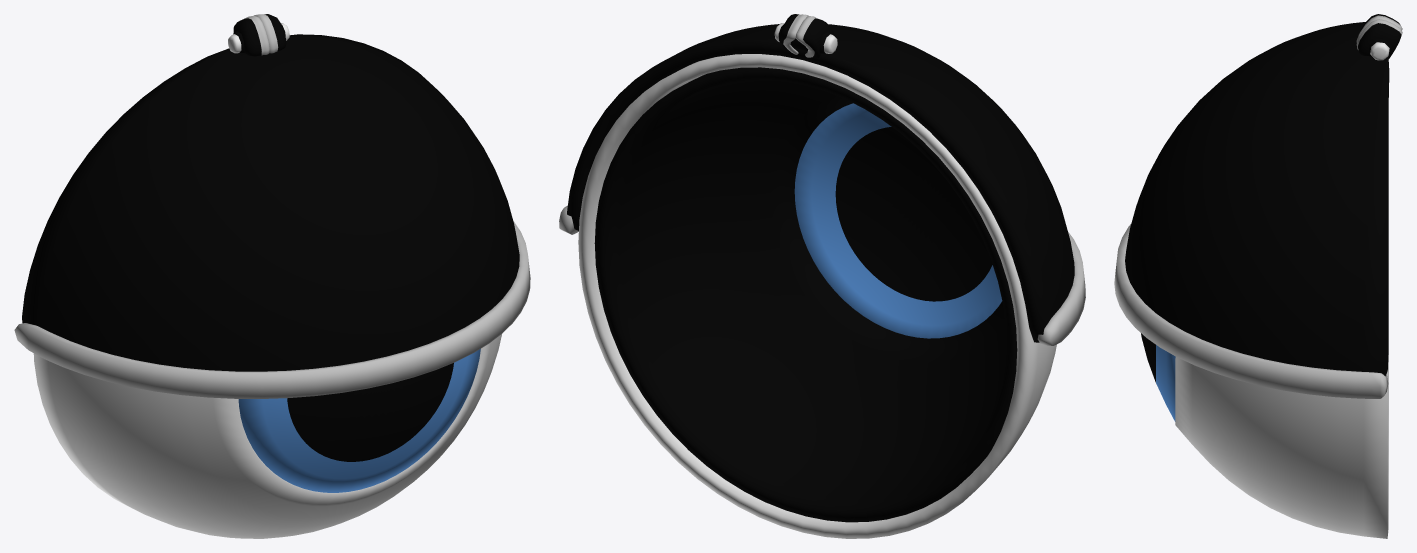
File: ojo.fbx
3 views of the same model, side by side, from view 1: azimuth 30°, elevation 25°; view 2: azimuth 150°, elevation 25°; view 3: azimuth 270°, elevation 25° (orthographic). The views are drawn at different scales.
Visible parts, largest first — view 1: Sphere.002, Sphere.004, Sphere, Sphere.003, Cube.001; view 2: Sphere.004, Sphere, Sphere.002, Sphere.003, Cube.001; view 3: Sphere.002, Sphere.004, Sphere.003, Sphere, Cube.001.
Boxes of the visible parts, x1,y1,x2,y2 form: Sphere.002: (22,34,519,371); Sphere.004: (33,334,501,538); Sphere: (238,349,480,492); Sphere.003: (14,221,530,398); Cube.001: (233,14,286,56); Sphere.004: (578,54,1056,538); Sphere: (794,103,1002,338); Sphere.002: (567,24,1074,342); Sphere.003: (559,205,1085,345); Cube.001: (780,14,833,58); Sphere.002: (1125,22,1389,376); Sphere.004: (1175,355,1388,538); Sphere.003: (1114,224,1388,398); Sphere: (1141,333,1175,421); Cube.001: (1356,14,1402,58).
Bounding box in the file's own units: 228 × 227 × 119.
